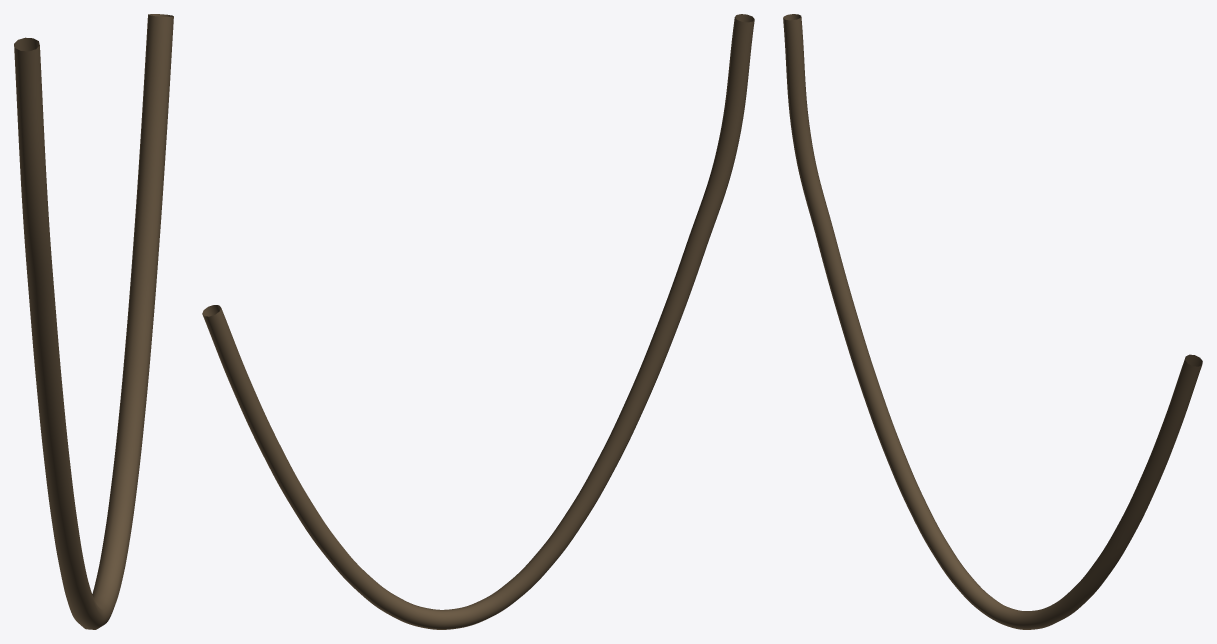
The model's file is Catenary.027.fbx.
3 views of the same model, side by side, from view 1: azimuth 30°, elevation 25°; view 2: azimuth 150°, elevation 25°; view 3: azimuth 270°, elevation 25° (orthographic). The views are drawn at different scales.
Visible parts, largest first — view 1: Catenary.027; view 2: Catenary.027; view 3: Catenary.027.
Boxes of the visible parts, bbox=[...] form: Catenary.027: bbox=[14, 14, 173, 629]; Catenary.027: bbox=[202, 14, 754, 629]; Catenary.027: bbox=[783, 14, 1202, 629].
Bounding box in the file's own units: 30.17 × 48.84 × 35.05.
